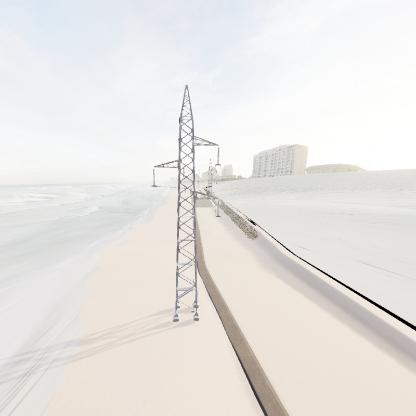tower: (146, 86, 226, 326)
